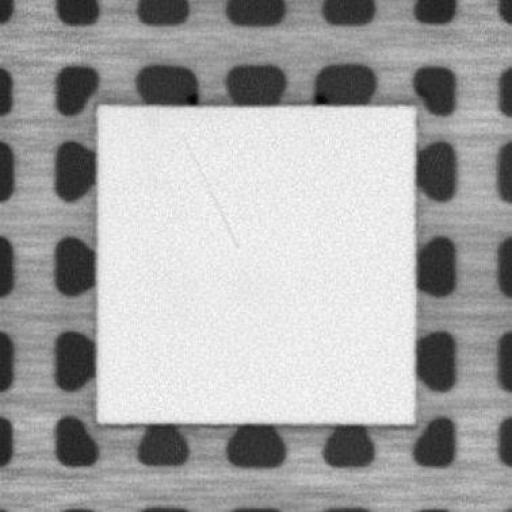DIE_CRACK: (182, 135, 238, 250)
